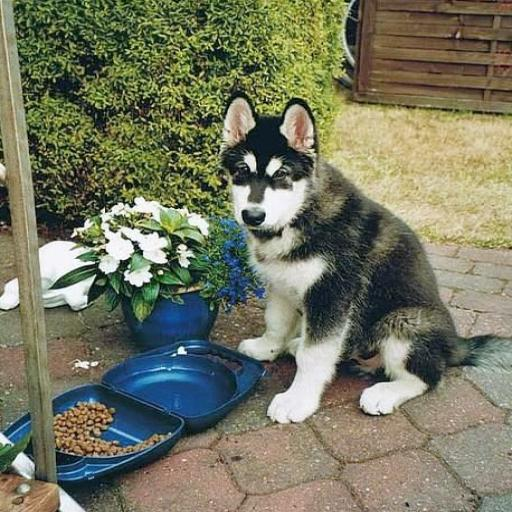dog_face: (209, 91, 328, 231)
